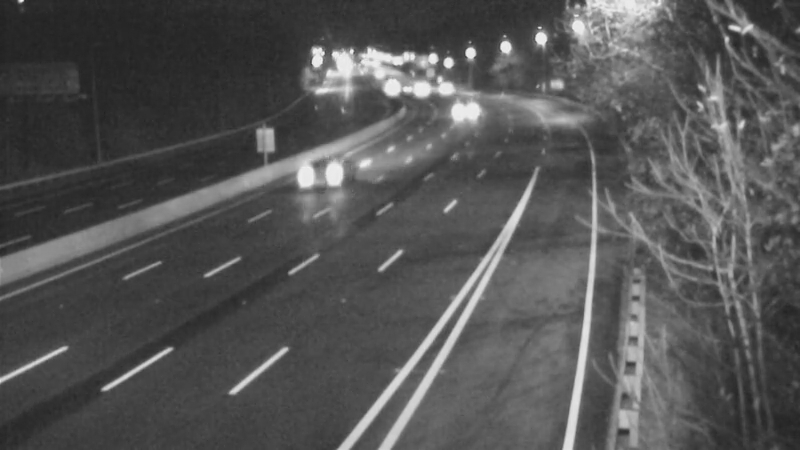vehicle: (292, 131, 372, 211), (417, 65, 467, 115), (399, 63, 449, 113), (386, 64, 436, 114), (364, 62, 414, 112), (435, 88, 485, 138)
